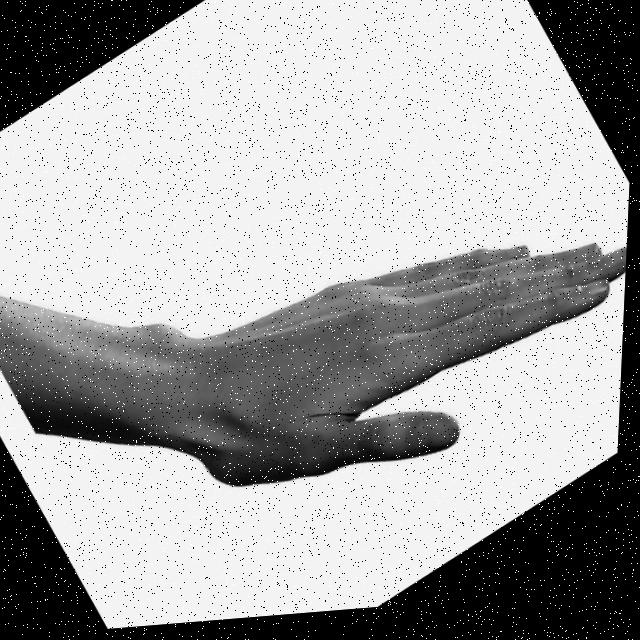hand: (151, 120, 634, 581)
